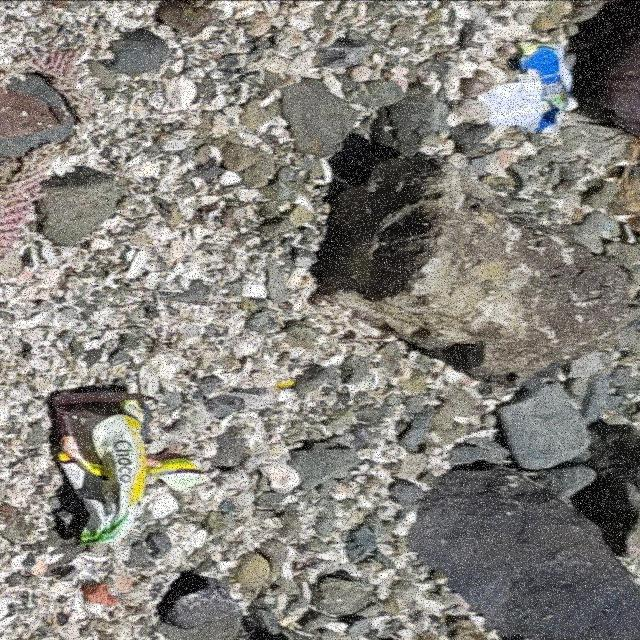plastic_waste: (52, 388, 160, 546), (476, 42, 573, 136)
